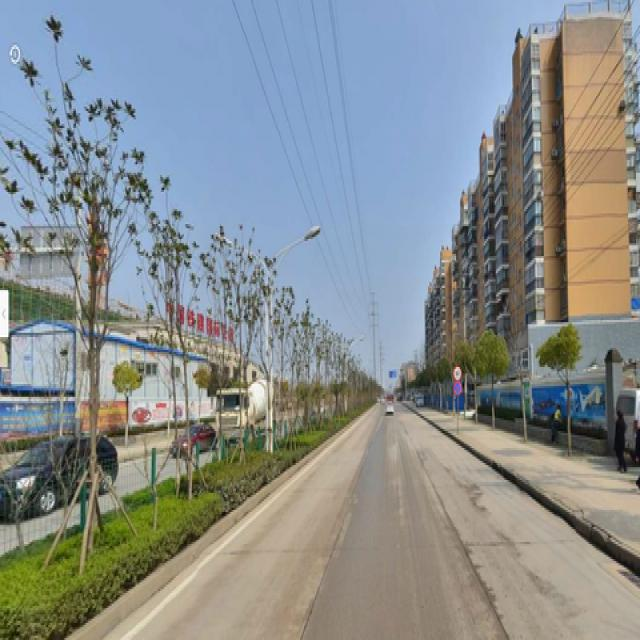cinn: (536, 310, 581, 452), (474, 324, 502, 425)
magn: (32, 64, 123, 550), (141, 199, 196, 482), (211, 236, 253, 458)
